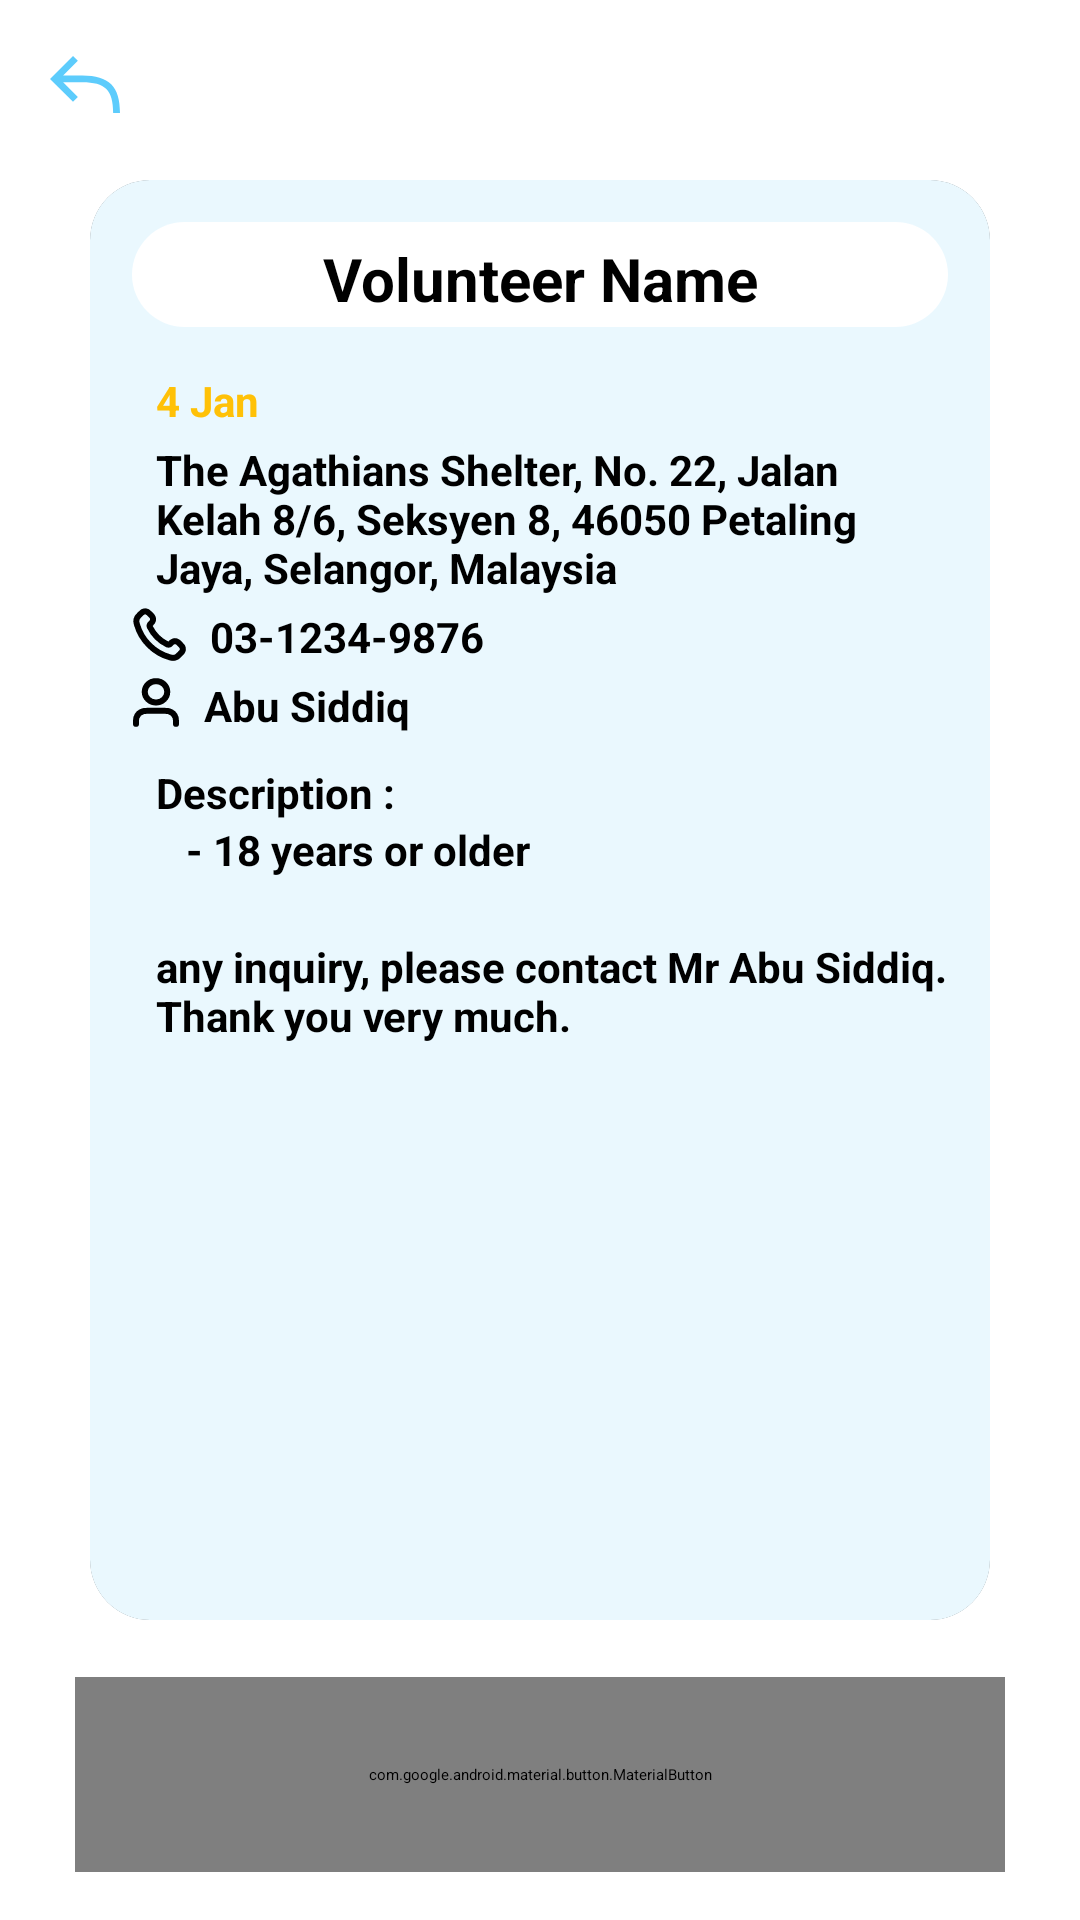

Screen size 1080 x 1920. Icon name, then its center in pixels as [x,y]:
Back Icon: [85,84]
person: [156,702]
phone: [159,634]
